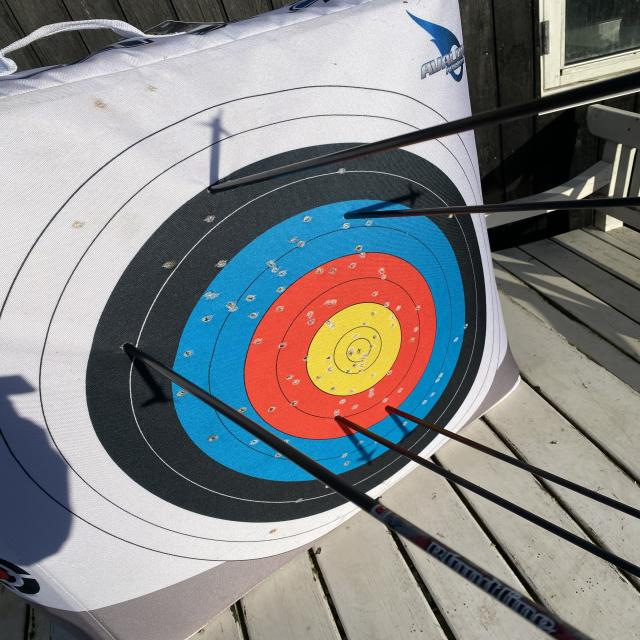Arrow_Black: (114, 335, 149, 366), (192, 180, 244, 199)
Arrow_Blue: (334, 199, 370, 230)
Arrow_Red: (329, 410, 354, 432), (380, 402, 403, 421)
